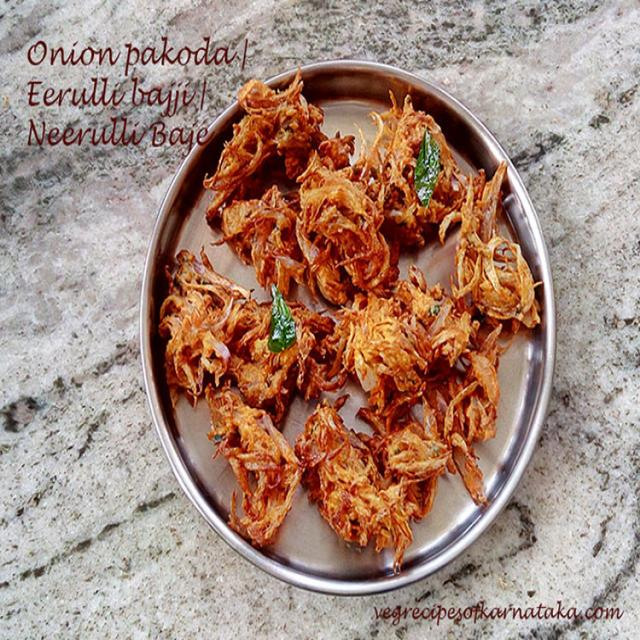BAJI: (307, 106, 471, 285), (353, 282, 491, 464), (199, 164, 368, 301), (174, 281, 312, 411), (288, 423, 429, 548), (235, 74, 328, 186), (220, 401, 294, 531), (465, 177, 532, 317)
